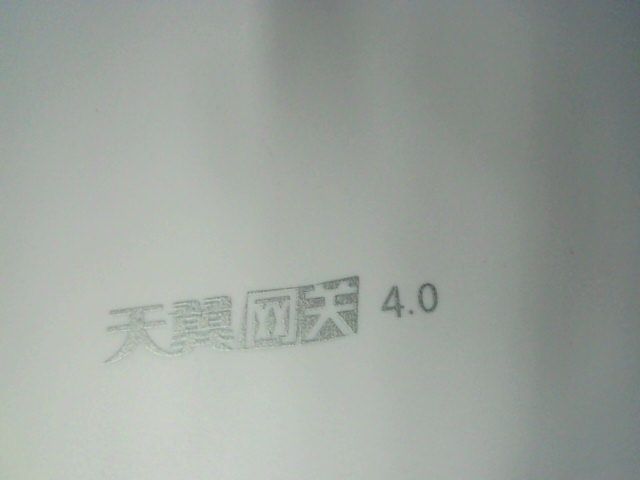BM_TianYiWangGuan: (101, 268, 447, 368)
